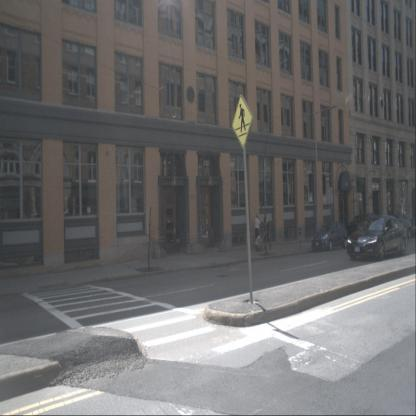human-pedestrian-adult: (263, 216, 271, 250), (255, 213, 260, 251)
vehicle-car: (346, 214, 408, 260), (311, 222, 348, 252), (346, 213, 378, 247), (385, 213, 412, 240)
